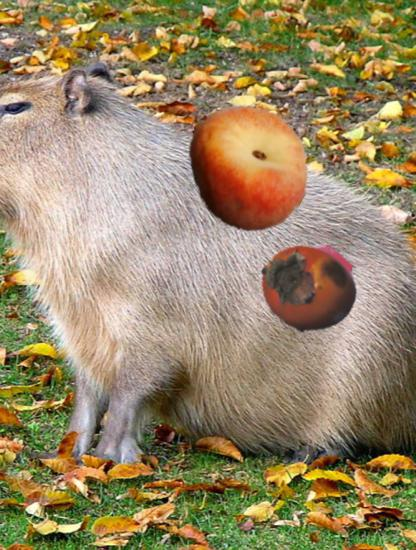Kaki: (256, 238, 359, 341)
Peach: (181, 102, 312, 233)
Redcurrant: (291, 247, 354, 310)
